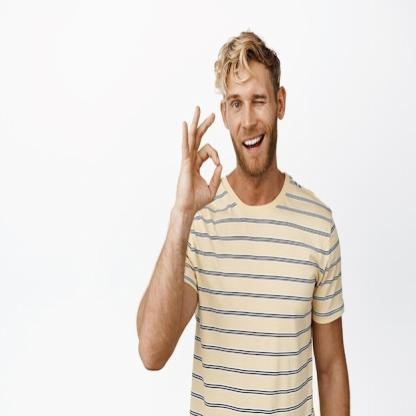ok: (176, 103, 224, 214)
